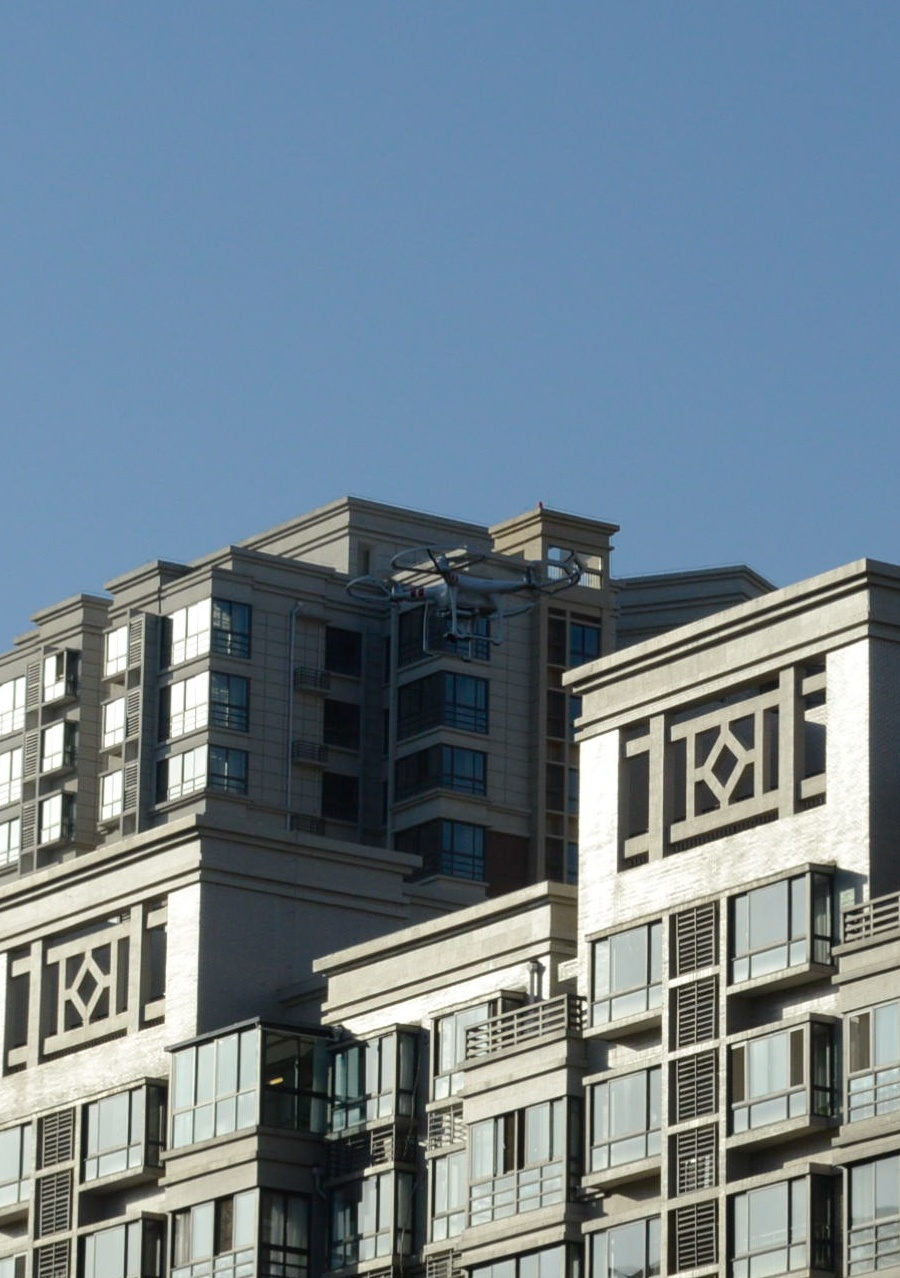DJI: (346, 537, 584, 663)
